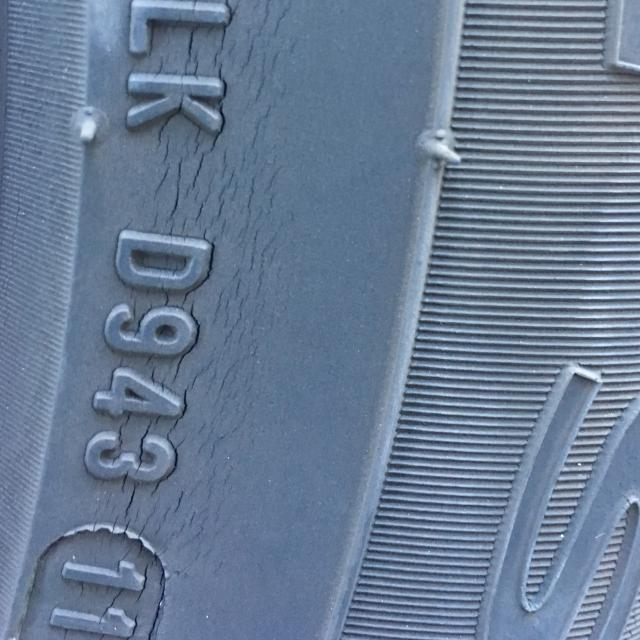Cracks: (0, 0, 319, 640)
